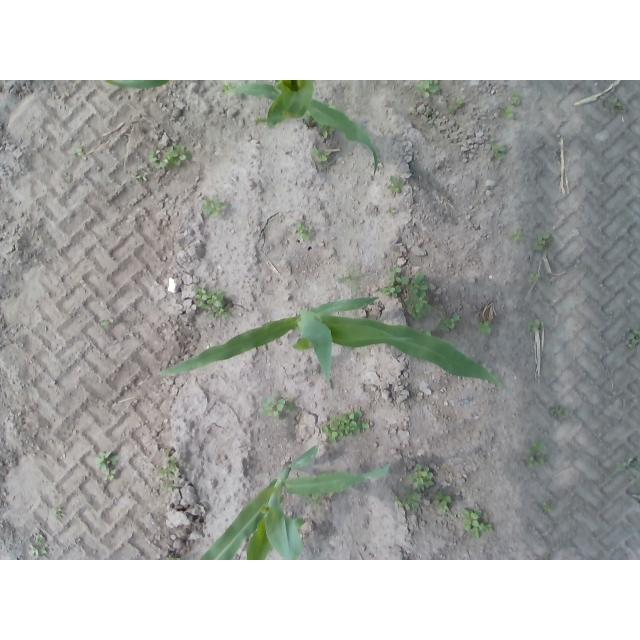Maize: (158, 297, 505, 391), (107, 80, 377, 178), (199, 445, 390, 560)
Weeds: (323, 411, 370, 440), (338, 262, 370, 297), (408, 460, 436, 492), (402, 288, 430, 318), (463, 509, 494, 535), (263, 396, 288, 420), (401, 274, 427, 295), (208, 295, 232, 317), (394, 493, 422, 511), (432, 493, 453, 516), (203, 197, 227, 216), (294, 219, 313, 241), (99, 451, 118, 471), (438, 313, 458, 331), (311, 147, 331, 165), (622, 326, 639, 347), (169, 146, 186, 167), (534, 232, 552, 250), (193, 290, 212, 307), (390, 177, 407, 196), (160, 459, 177, 477), (620, 456, 636, 473), (530, 449, 547, 465), (610, 99, 627, 114), (494, 142, 508, 160), (151, 156, 169, 168), (424, 80, 440, 93), (384, 284, 402, 295), (549, 406, 564, 418), (480, 321, 492, 336), (30, 543, 42, 557), (450, 100, 464, 112), (512, 231, 525, 242), (105, 469, 119, 479), (529, 321, 541, 332), (542, 501, 554, 511), (528, 272, 540, 282), (511, 95, 521, 106), (506, 109, 513, 119)
